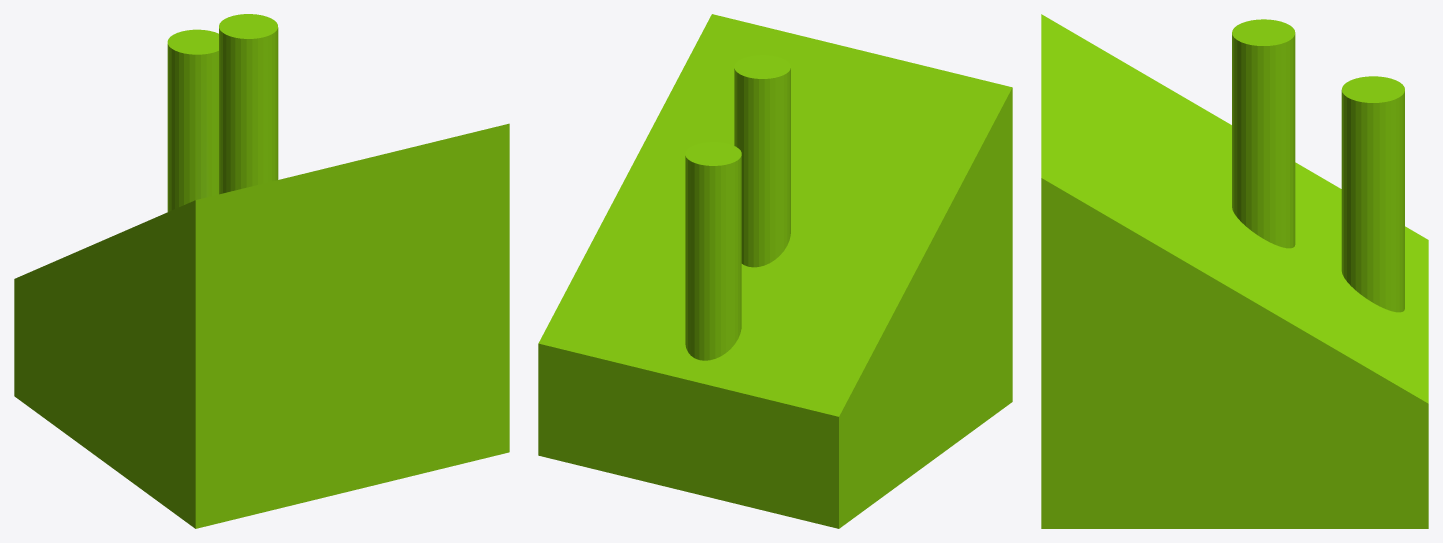
Rendered from factory.glb.
3 renders of one model, left to right at view 1: azimuth 30°, elevation 25°; view 2: azimuth 150°, elevation 25°; view 3: azimuth 270°, elevation 25°, orthographic. The views are drawn at different scales.
Visible parts, largest first — view 1: Cylinder; view 2: Cylinder; view 3: Cylinder.
Boxes of the visible parts, <box> form: Cylinder: <box>14,14,509,528</box>; Cylinder: <box>538,14,1012,528</box>; Cylinder: <box>1041,14,1428,528</box>.
Size of the model in its own units: 2 by 2.36 by 2.
